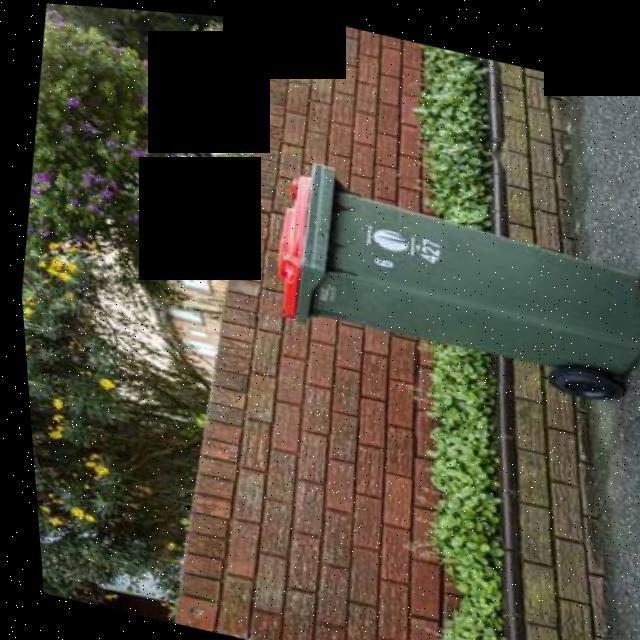bin: (242, 141, 640, 410)
